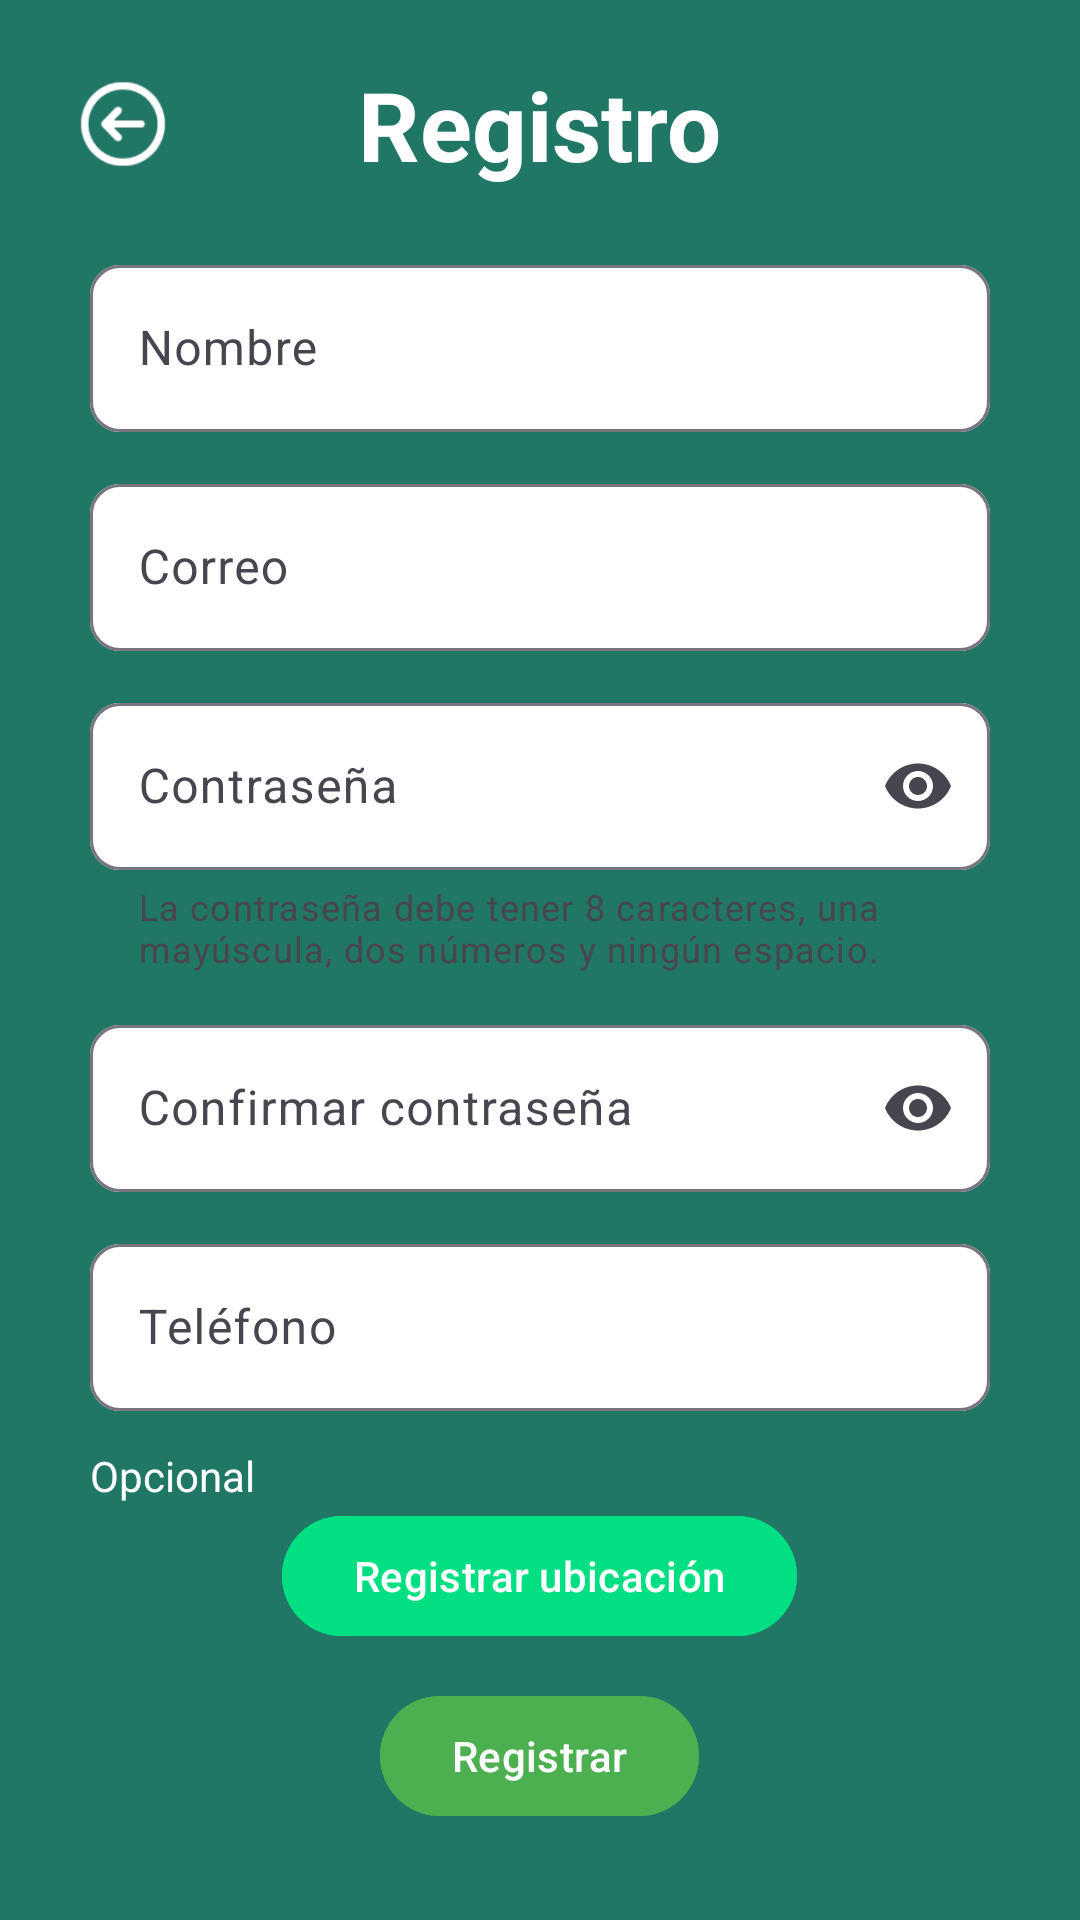

Where to tap for icons on this 1080*1920 app screen, as (x=x, y=y):
Regresar: (x=123, y=124)
